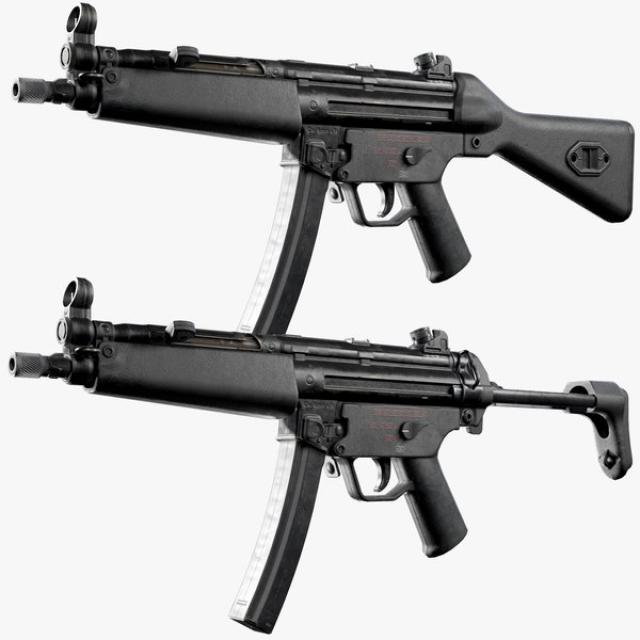SMG: (9, 278, 634, 638), (12, 4, 637, 339)
